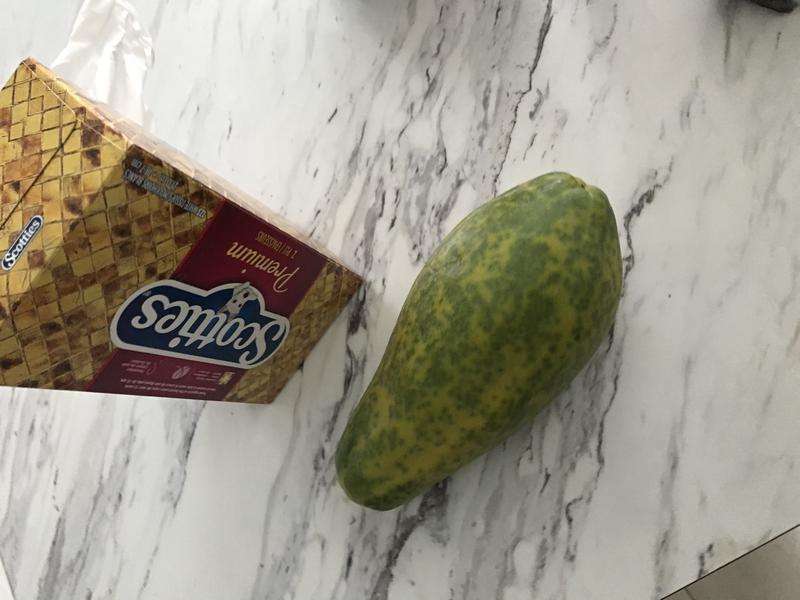papaya: (318, 158, 635, 523)
